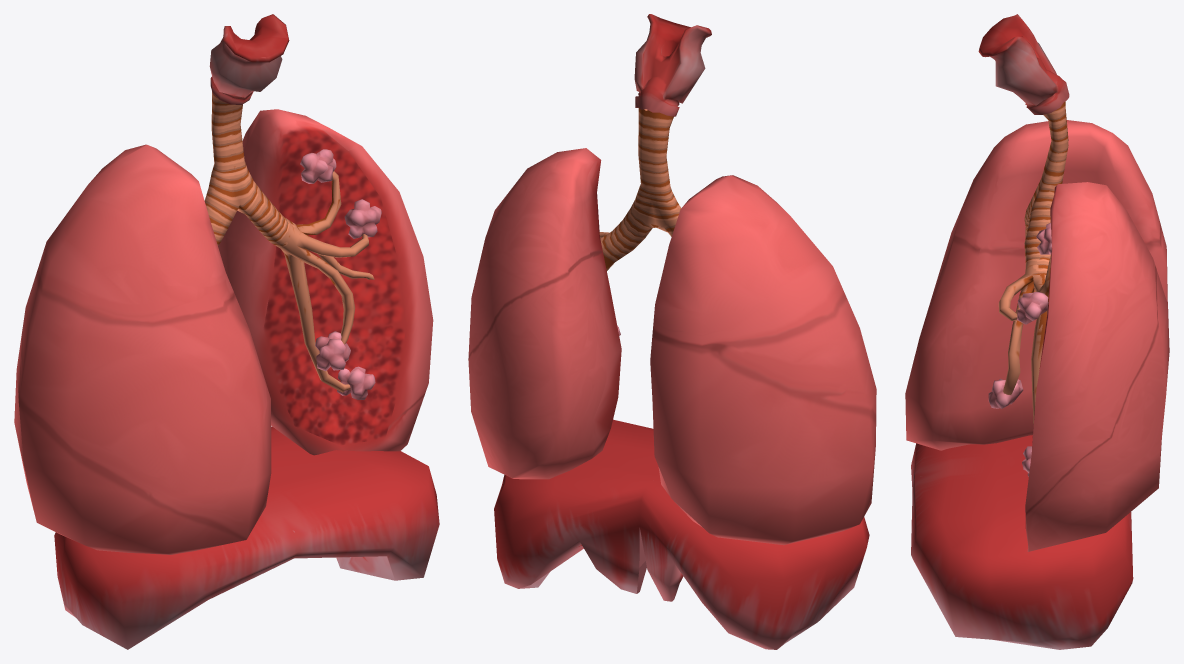
File: respiratorio2.fbx
3 renders of one model, left to right at view 1: azimuth 30°, elevation 25°; view 2: azimuth 150°, elevation 25°; view 3: azimuth 270°, elevation 25°, orthographic. The views are drawn at different scales.
Parts seen in each view (by area): view 1: Sphere.001, Cube, Cylinder, Cylinder.003, Cube.007; view 2: Sphere.001, Cube, Cylinder, Cylinder.003; view 3: Sphere.001, Cube, Cylinder, Cylinder.003, Cube.007.
Boxes of the visible parts, x1,y1,x2,y2 form: Sphere.001: (14, 109, 433, 554); Cube: (54, 426, 439, 649); Cylinder: (204, 92, 374, 392); Cylinder.003: (209, 14, 289, 104); Cube.007: (300, 149, 381, 399); Sphere.001: (468, 148, 876, 545); Cube: (494, 419, 869, 649); Cylinder: (599, 108, 681, 270); Cylinder.003: (634, 14, 711, 116); Sphere.001: (905, 120, 1169, 551); Cube: (911, 435, 1133, 649); Cylinder: (998, 101, 1068, 423); Cylinder.003: (978, 14, 1069, 114); Cube.007: (988, 223, 1051, 476).
Size of the model in its own units: 38.78 by 53.95 by 22.72.
